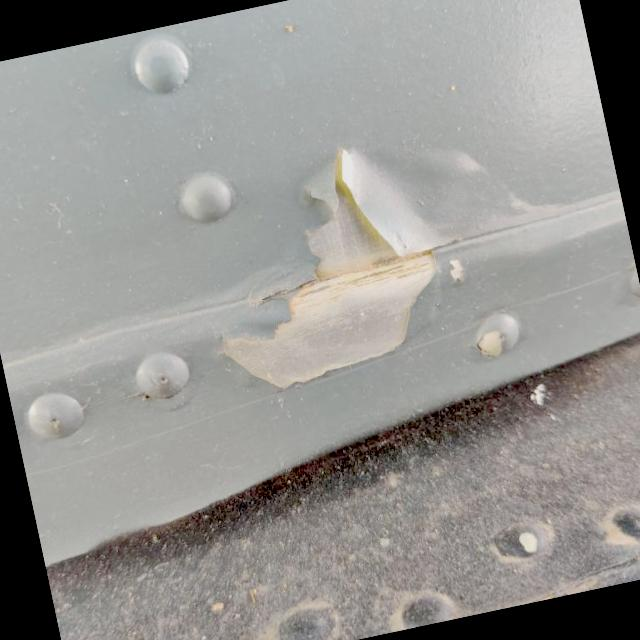paint-off: (164, 112, 488, 422)
